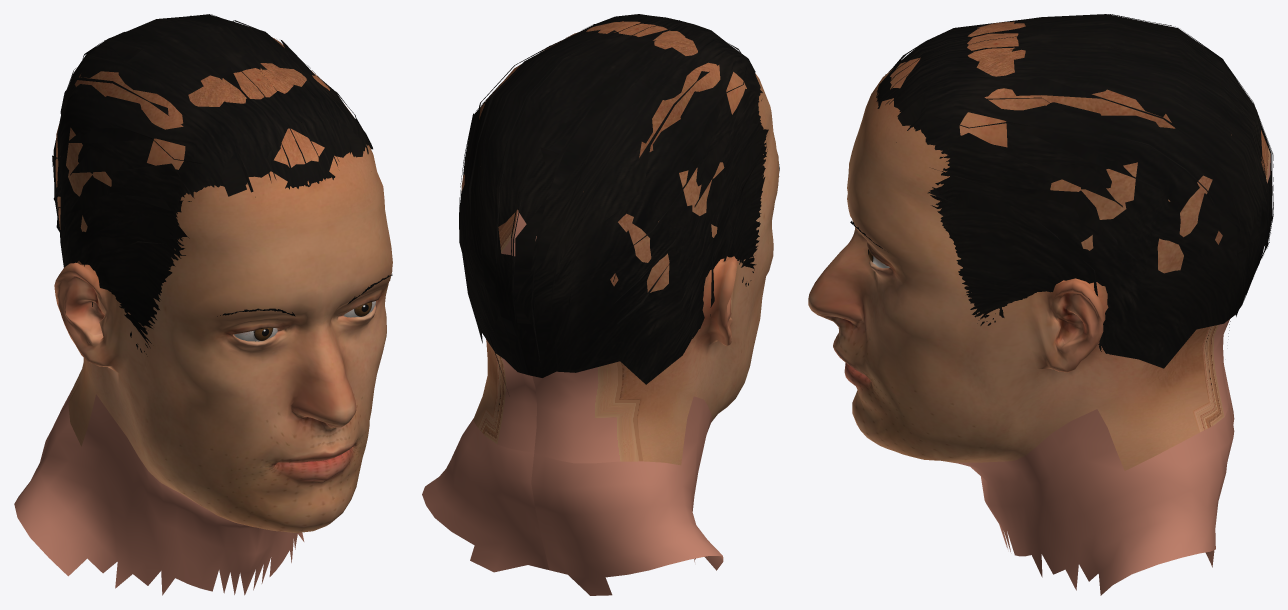
The model's file is hero_world_head_decham.glb.
The picture shows the model from 3 angles, left to right: view 1: azimuth 30°, elevation 25°; view 2: azimuth 150°, elevation 25°; view 3: azimuth 270°, elevation 25°; orthographic projection. The views are drawn at different scales.
Visible parts, largest first — view 1: head_skull, mpfb_hair, mpfb_eyes; view 2: mpfb_hair, head_skull; view 3: head_skull, mpfb_hair.
Part boxes in pixels (x1,y1,x2,y2): head_skull: (14,37,392,595); mpfb_hair: (52,14,372,356); mpfb_eyes: (233,301,375,341); mpfb_hair: (459,14,768,384); head_skull: (422,21,779,595); head_skull: (808,21,1270,595); mpfb_hair: (876,14,1273,368).
Bounding box in the file's own units: 0.3199 × 0.5312 × 0.4321.
Materials: 4 (4 with a texture image).
